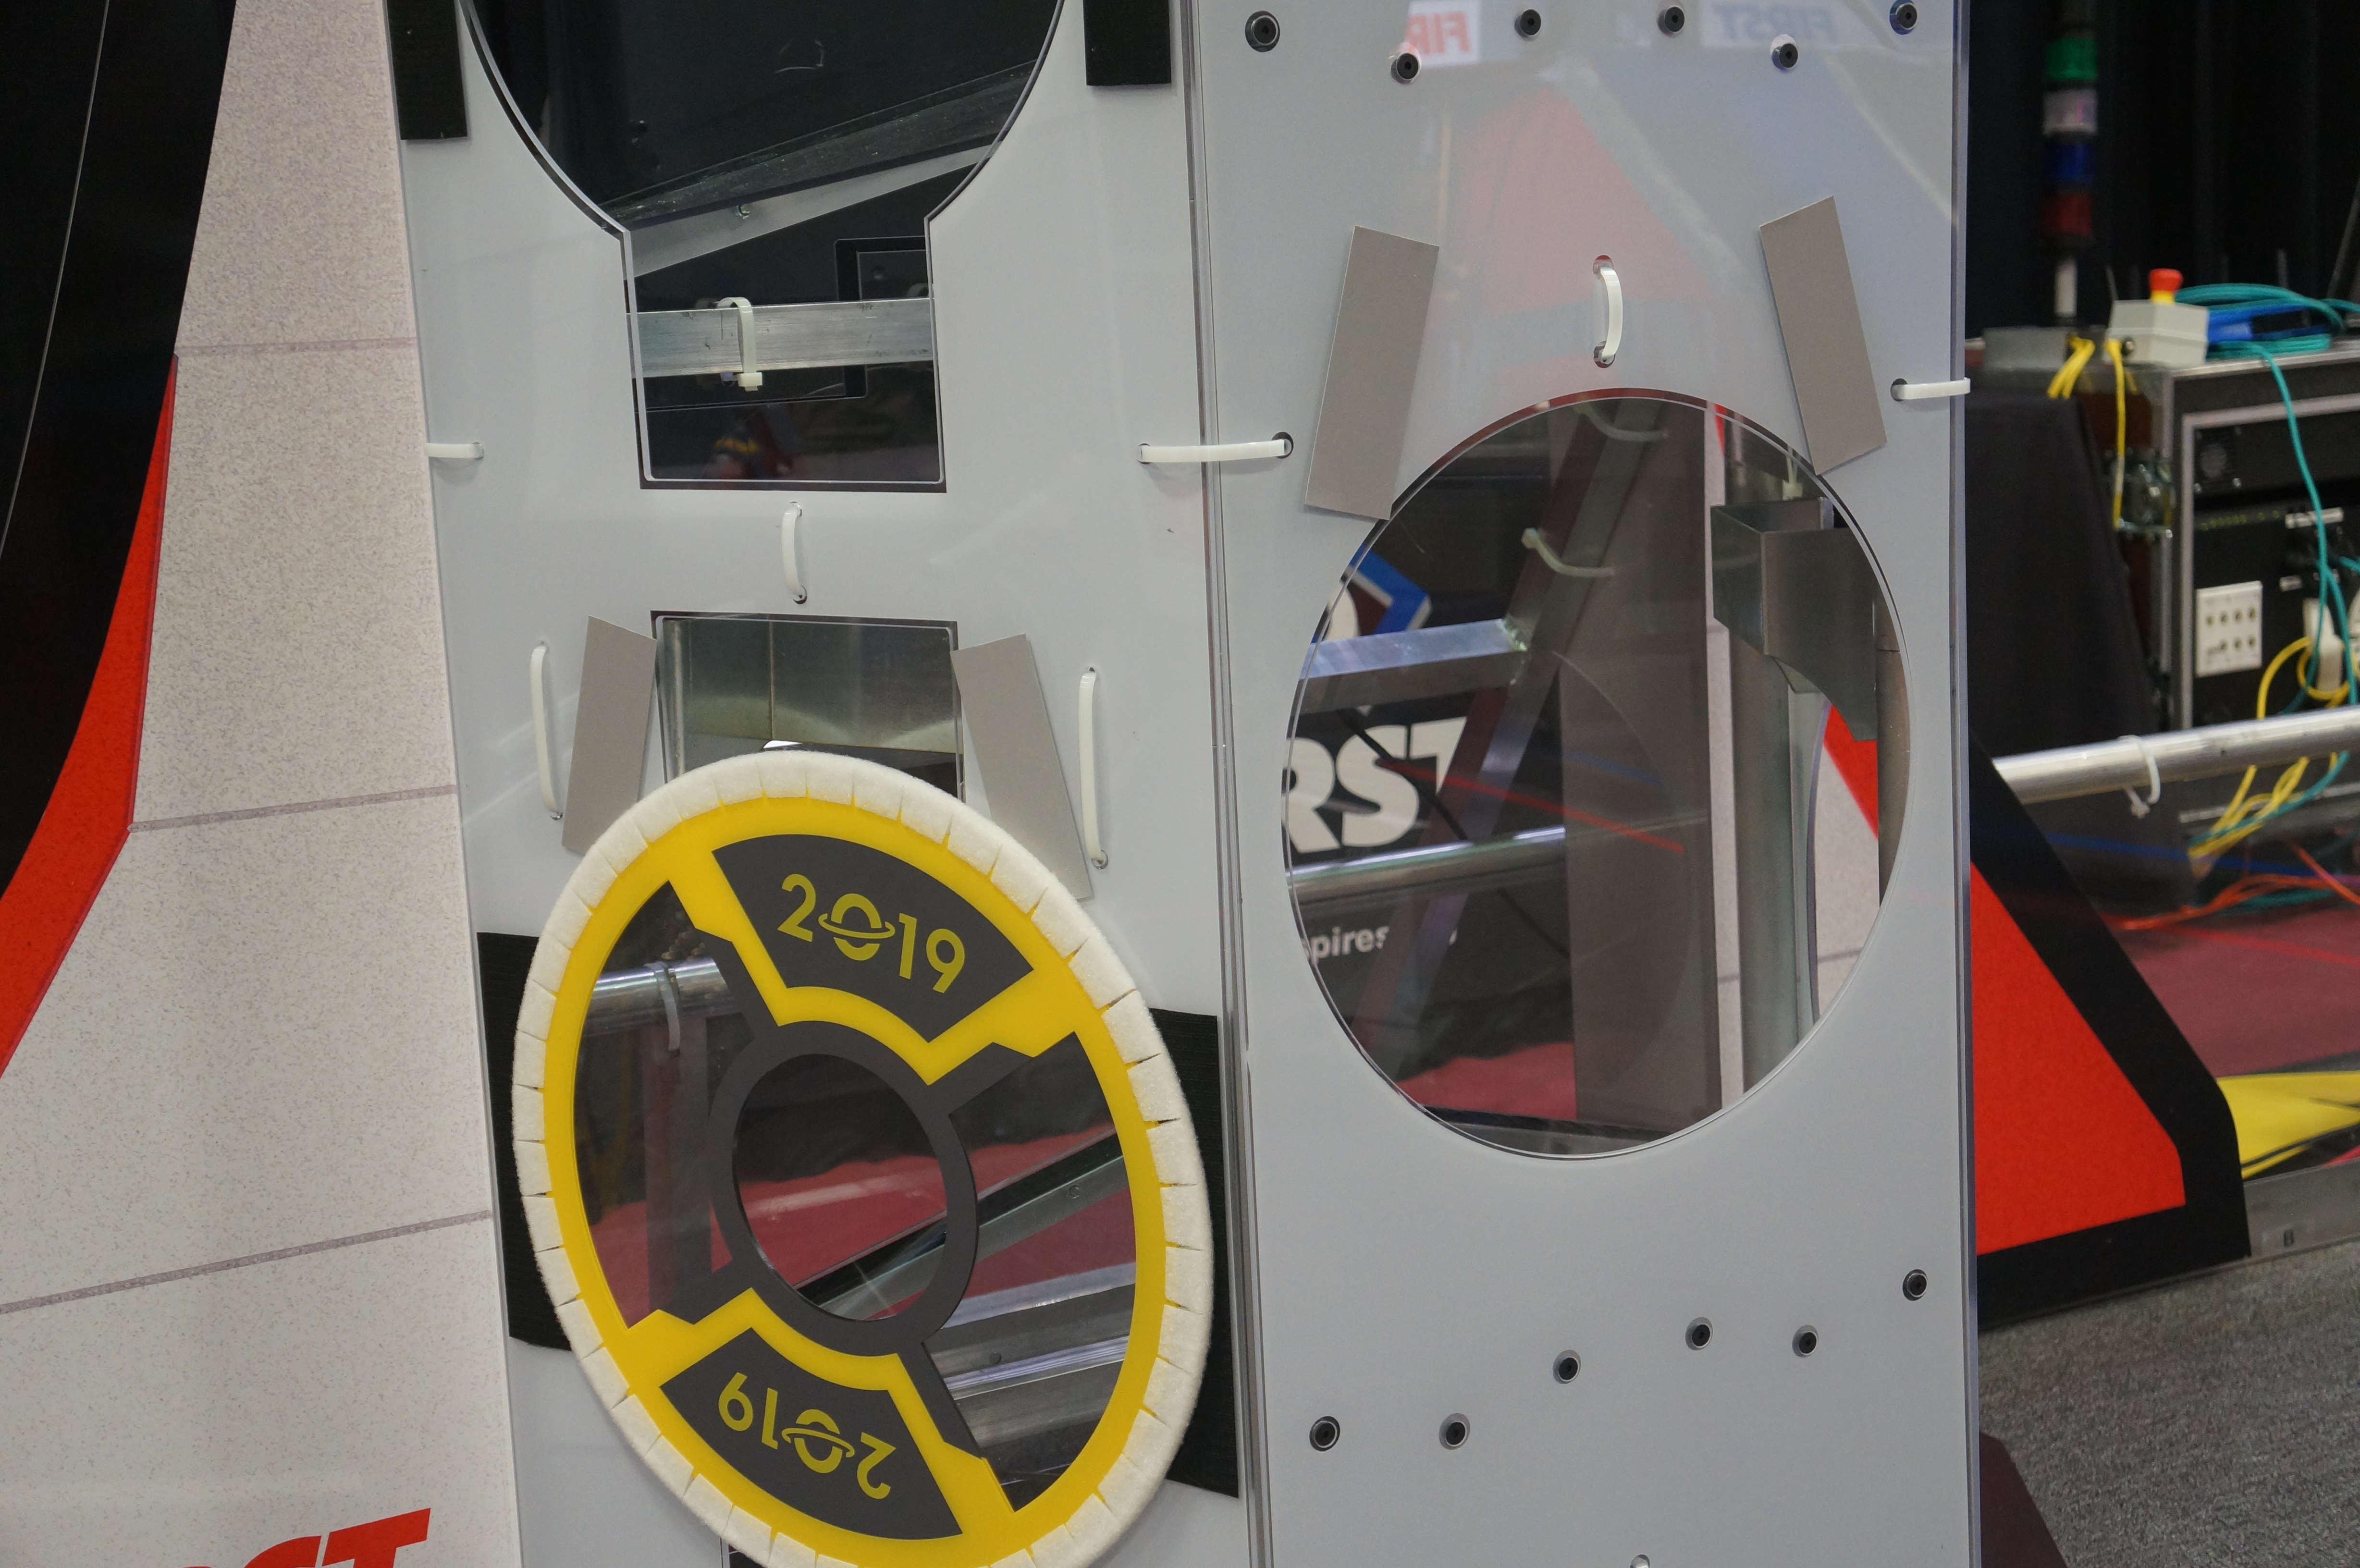Hatch: (511, 751, 1218, 1568)
Tape: (945, 632, 1100, 917), (1303, 224, 1442, 527), (1753, 192, 1891, 486), (558, 616, 658, 864)
